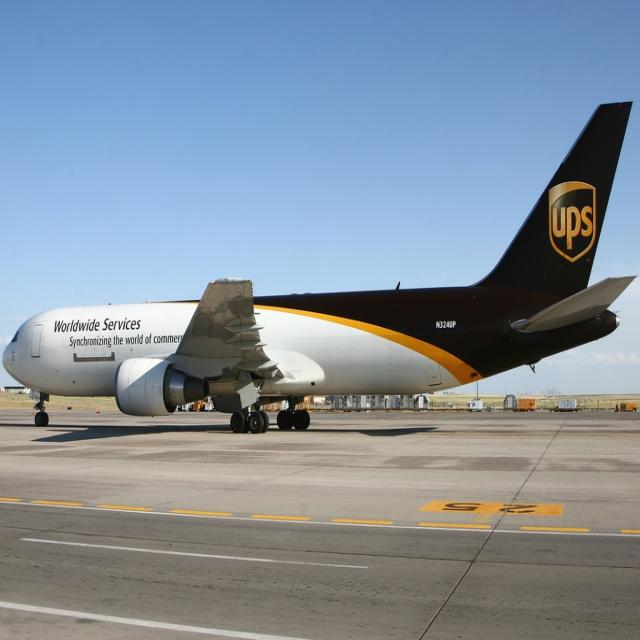ups: (549, 181, 598, 263)
